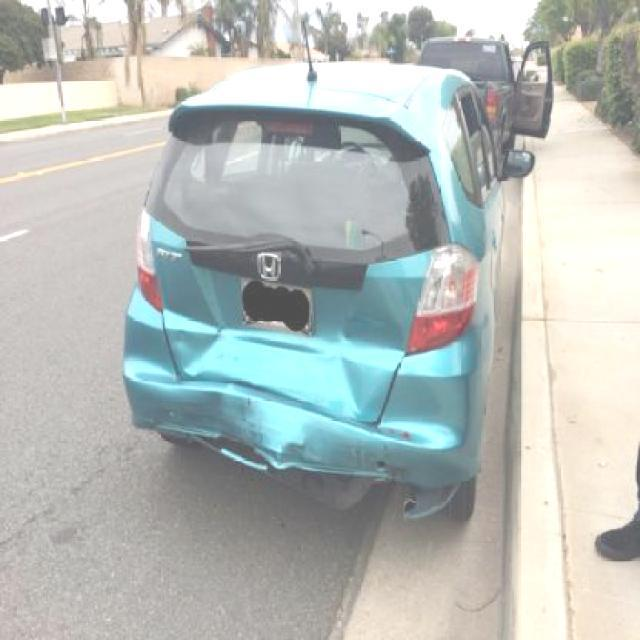minor: (123, 217, 480, 489)
